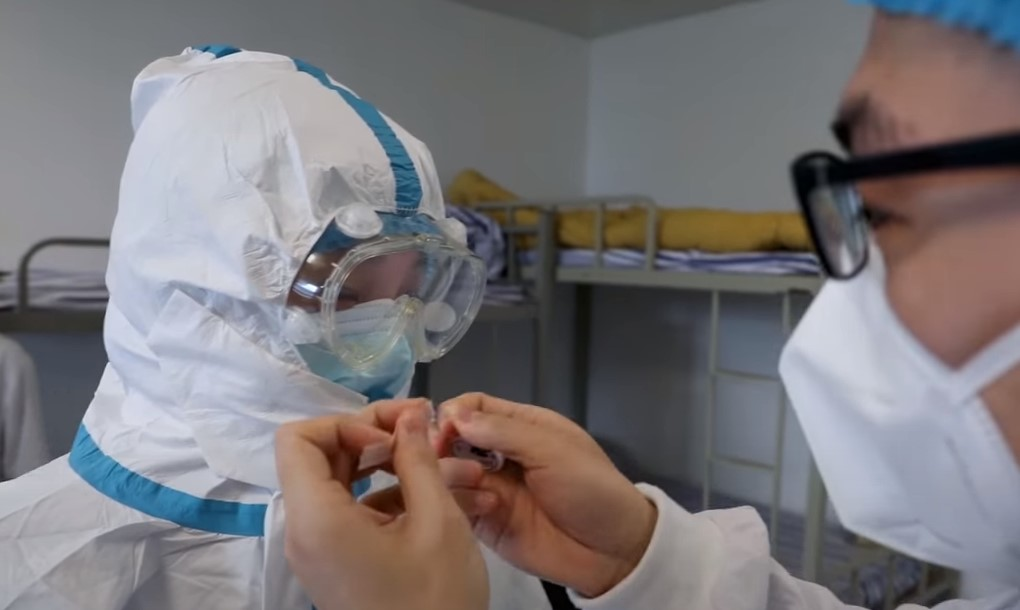face_with_mask: (112, 40, 501, 438), (773, 5, 1020, 586)
